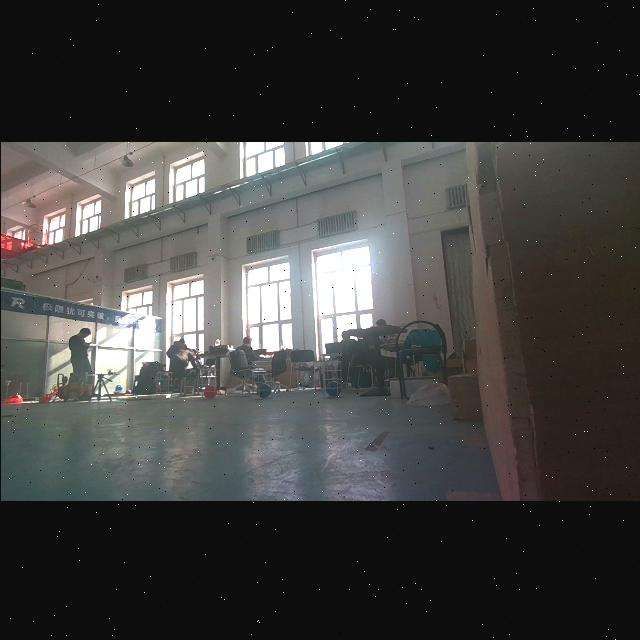B: (325, 380, 341, 396), (254, 382, 270, 396)
R: (202, 384, 216, 398)
S: (318, 358, 344, 398), (249, 361, 273, 399), (196, 363, 218, 399), (152, 368, 174, 400)
